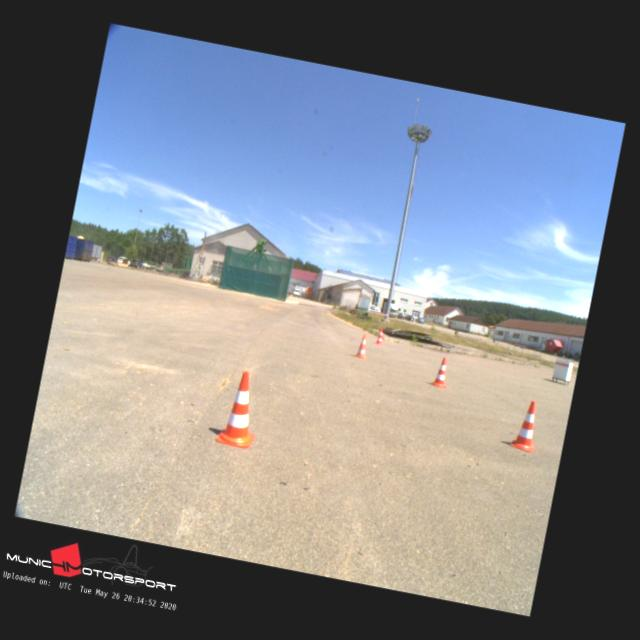large_orange_cone: (216, 368, 266, 448), (510, 399, 543, 452), (432, 356, 451, 388), (355, 333, 371, 358), (375, 328, 386, 344)
